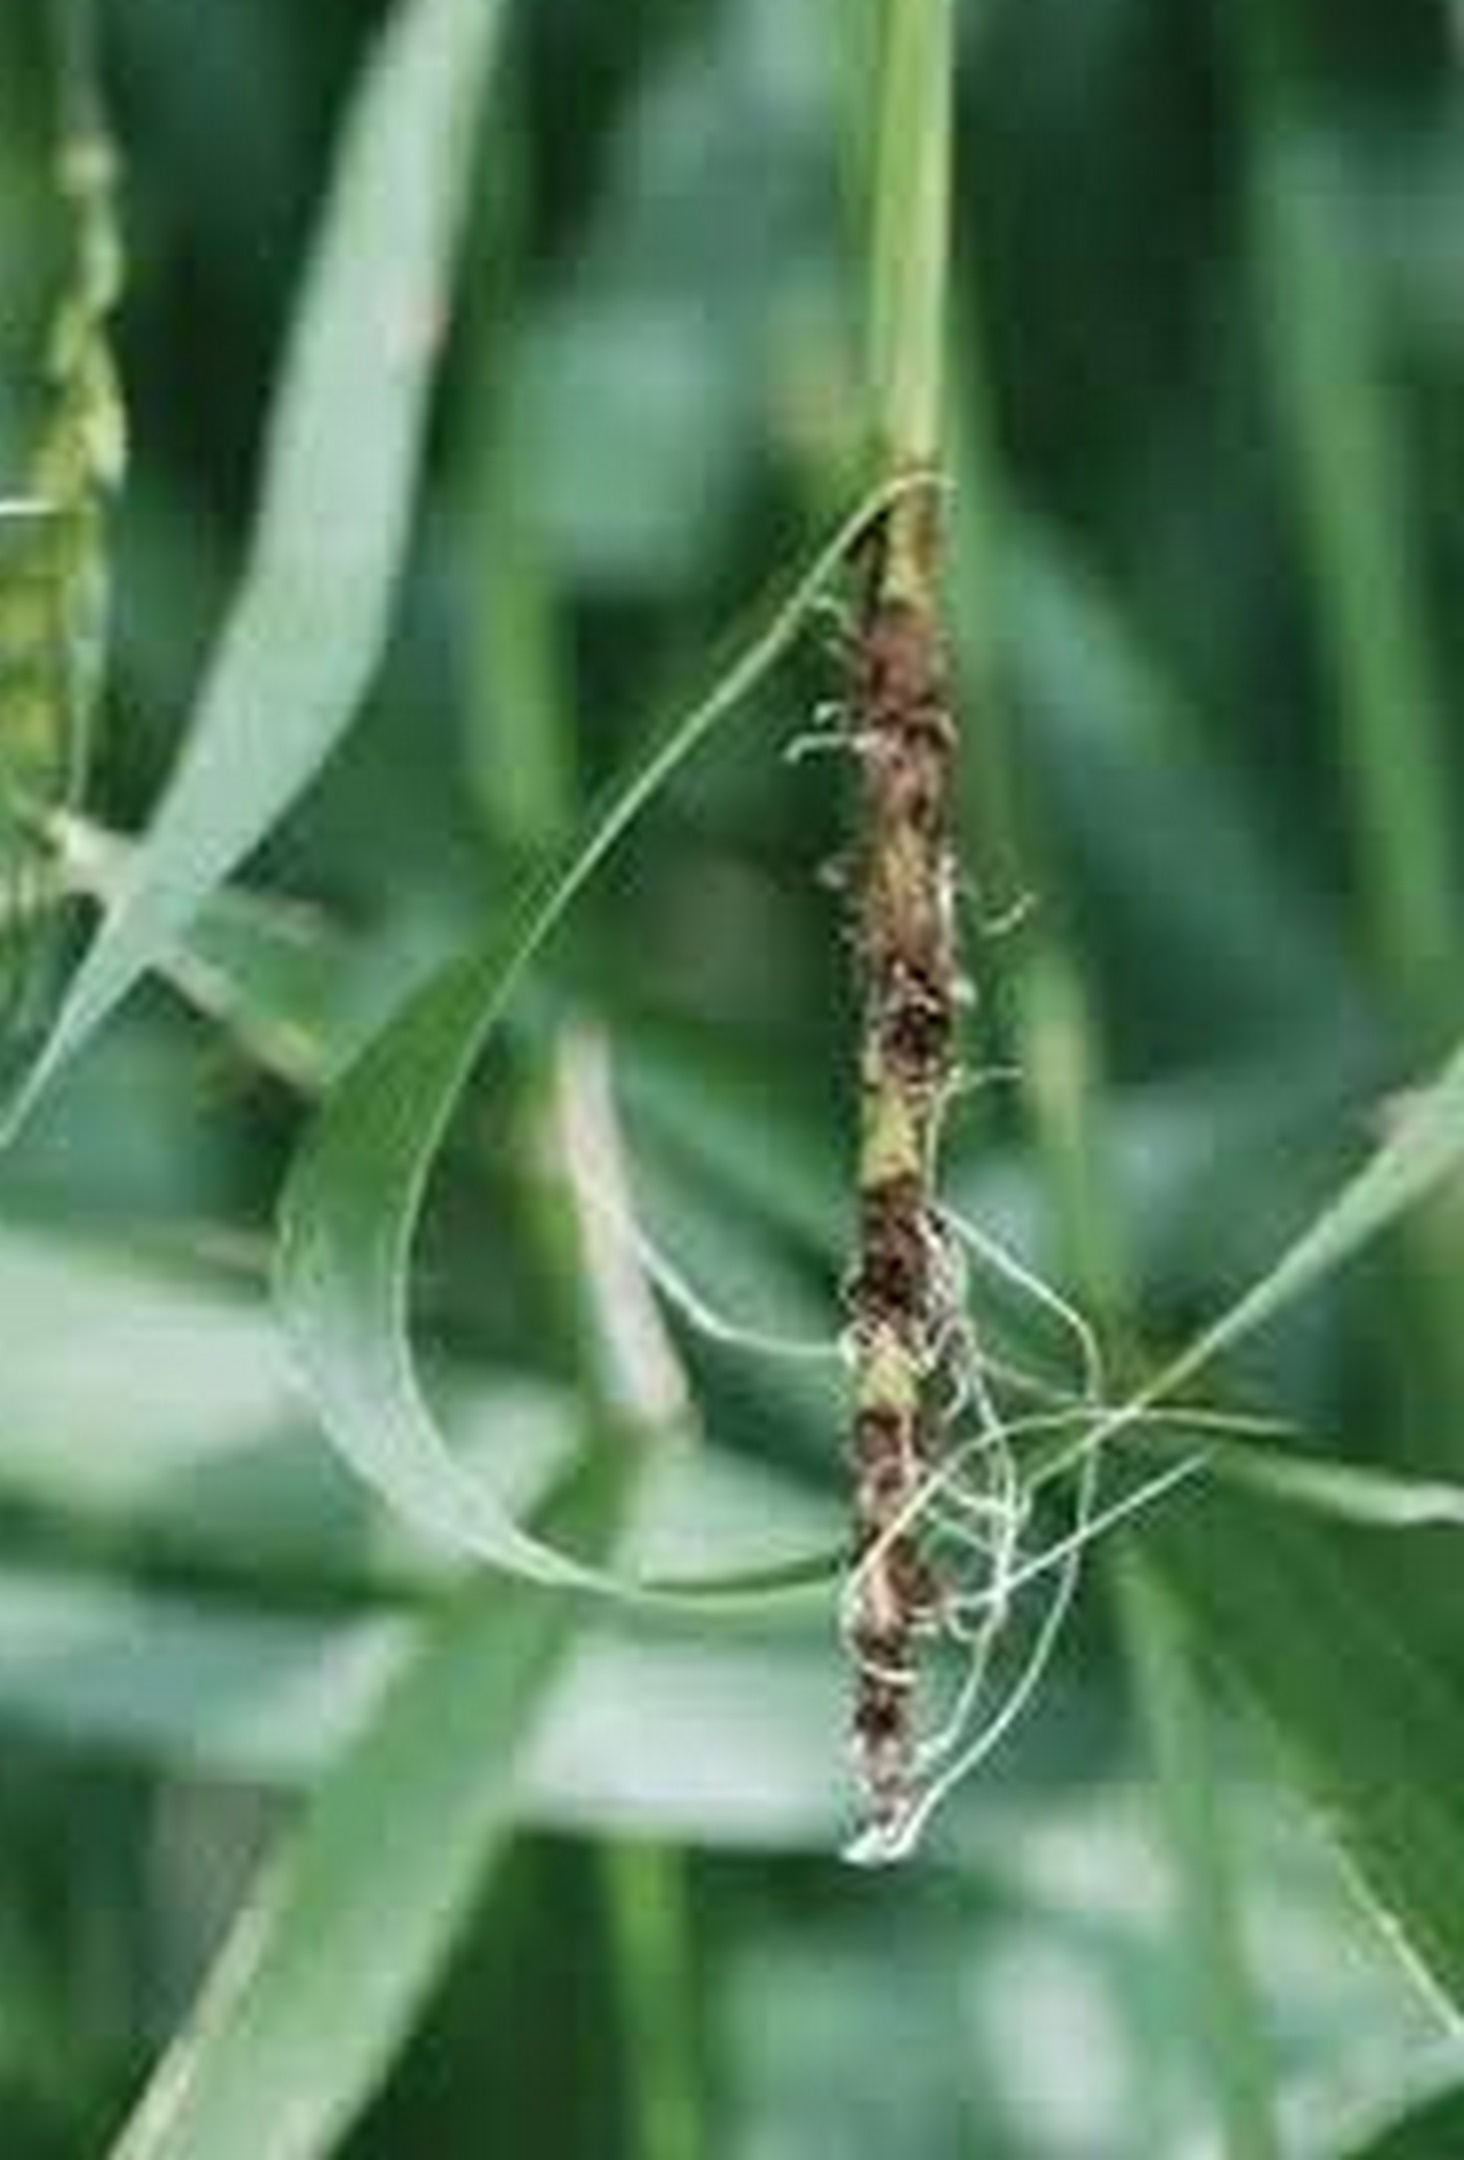Wheat Loose Smut: (766, 570, 1041, 1846)
